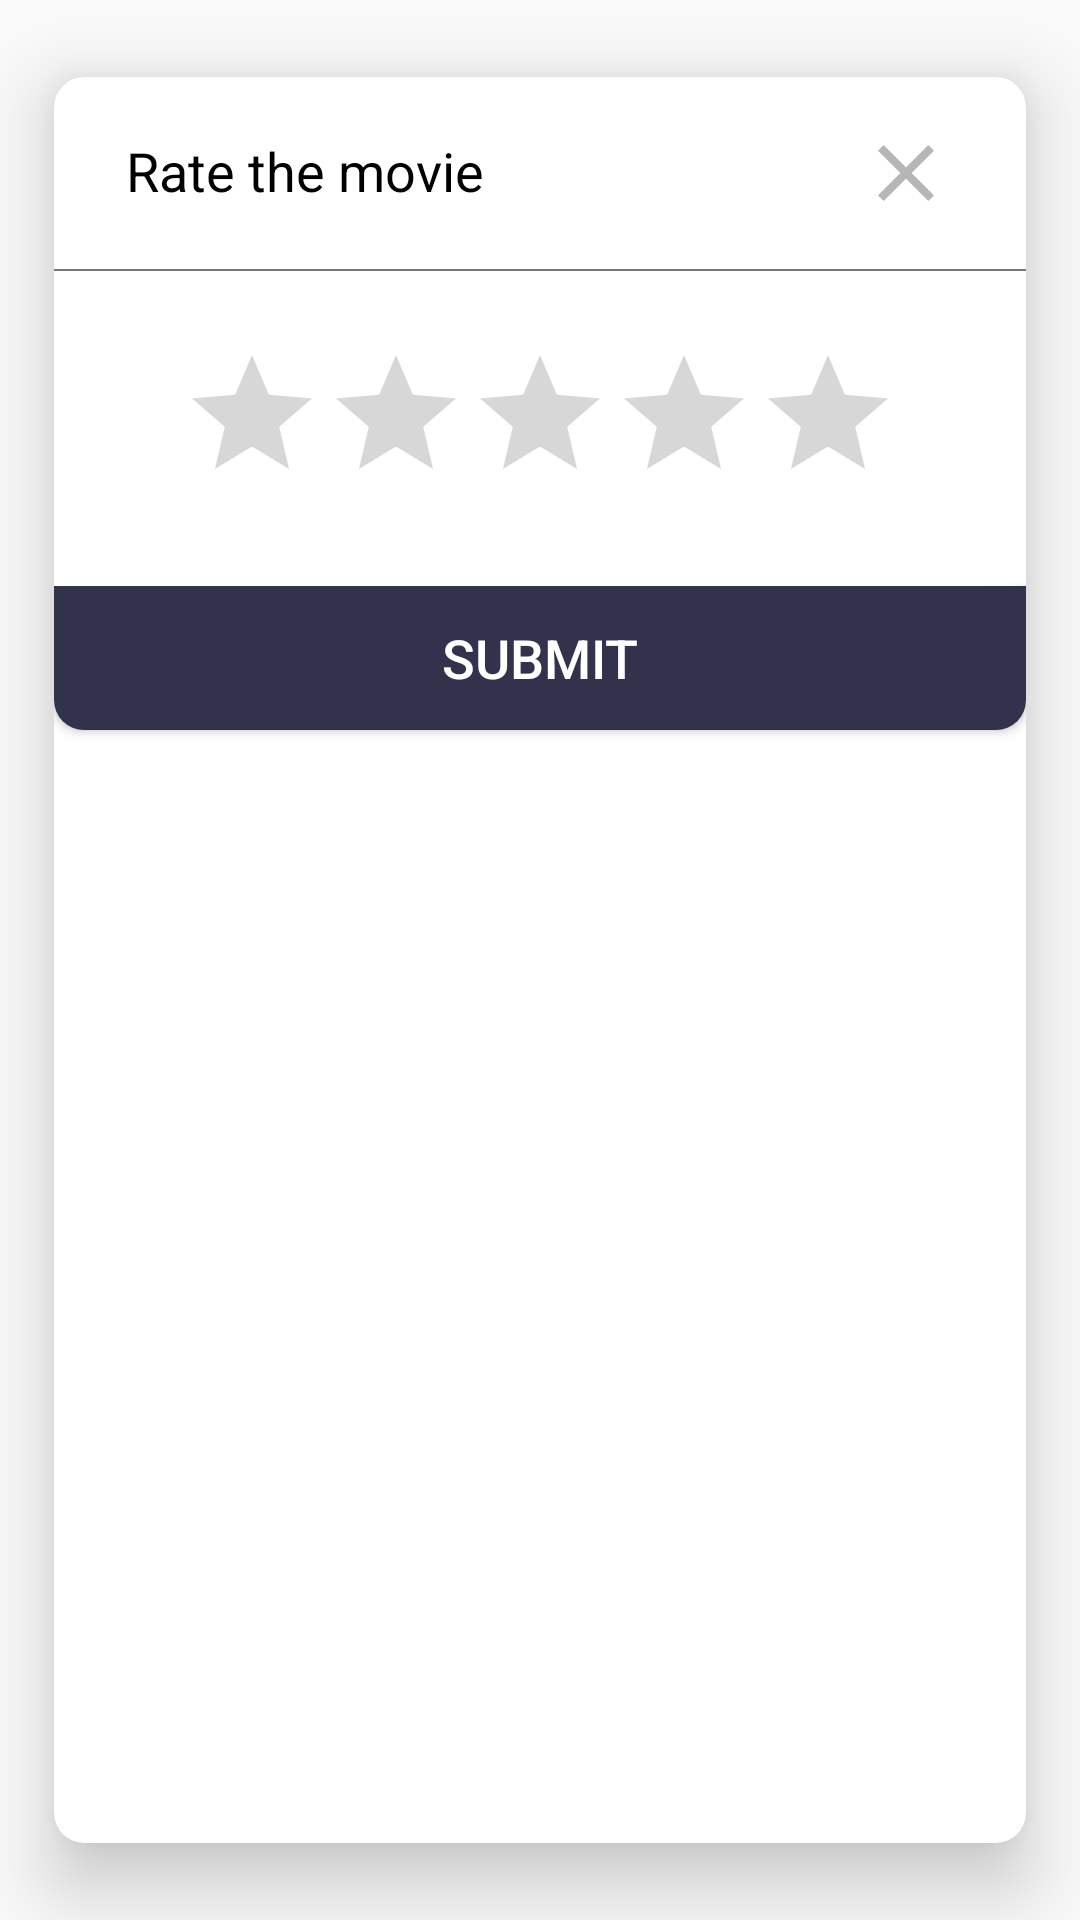

Screen size 1080px×1920px. Icon name, then its box in pixels as (x1, y1, x2, y2):
cross: (878, 145, 934, 201)
